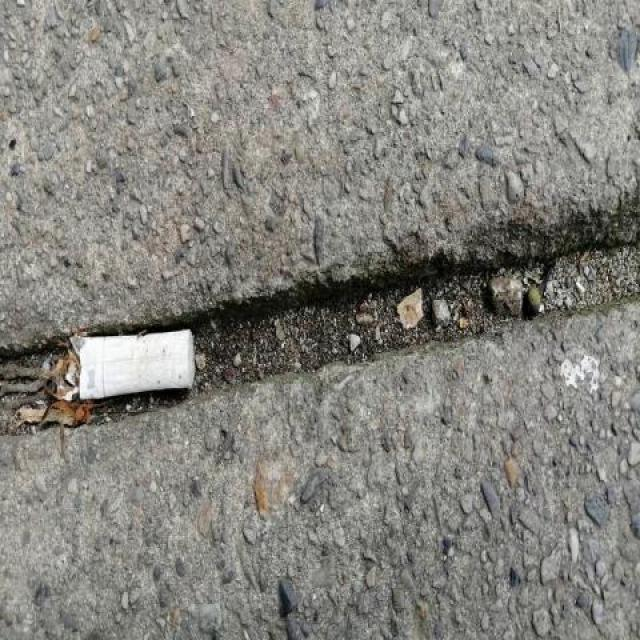non-organic waste: (63, 326, 197, 402)
